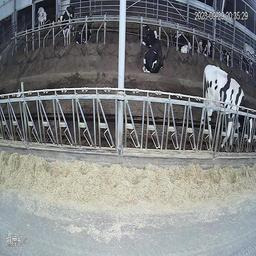cow: (207, 64, 255, 168), (144, 33, 165, 74), (57, 2, 75, 46), (171, 26, 194, 58), (73, 19, 95, 45), (141, 21, 158, 48), (198, 37, 216, 59), (37, 4, 49, 34), (220, 42, 234, 66)
